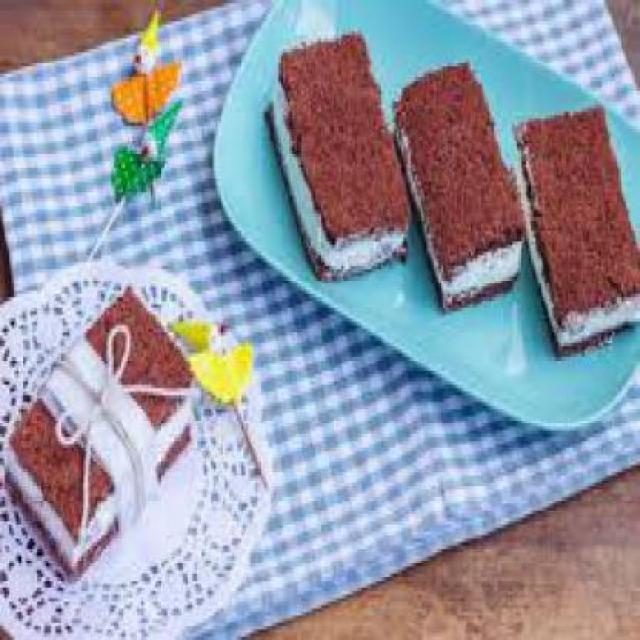Merendine packaged: (264, 24, 416, 304), (506, 73, 638, 361), (391, 56, 527, 314)
